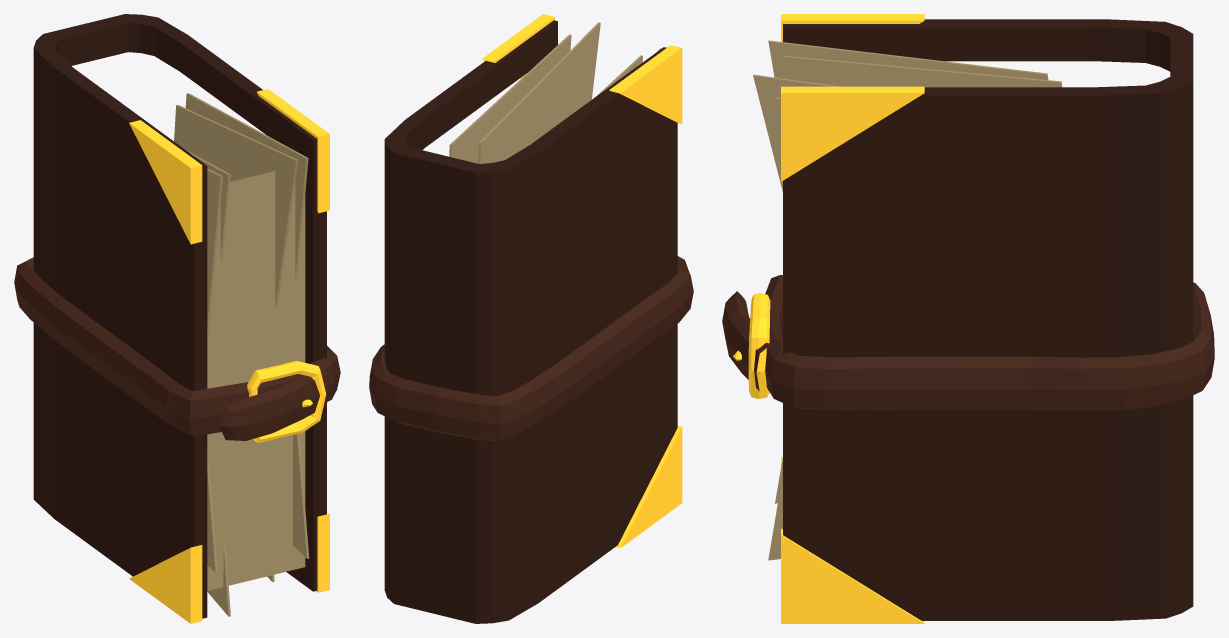
File: book3_closed.glb
3 views of the same model, side by side, from view 1: azimuth 30°, elevation 25°; view 2: azimuth 150°, elevation 25°; view 3: azimuth 270°, elevation 25° (orthographic). The views are drawn at different scales.
Visible parts, largest first — view 1: Book3_Closed; view 2: Book3_Closed; view 3: Book3_Closed.
Part boxes in pixels (box(x1,y1,x2,y2)): Book3_Closed: box(14, 14, 340, 623); Book3_Closed: box(369, 14, 693, 623); Book3_Closed: box(722, 14, 1214, 623).
Bounding box in the file's own units: 31.29 × 80.68 × 67.05.
